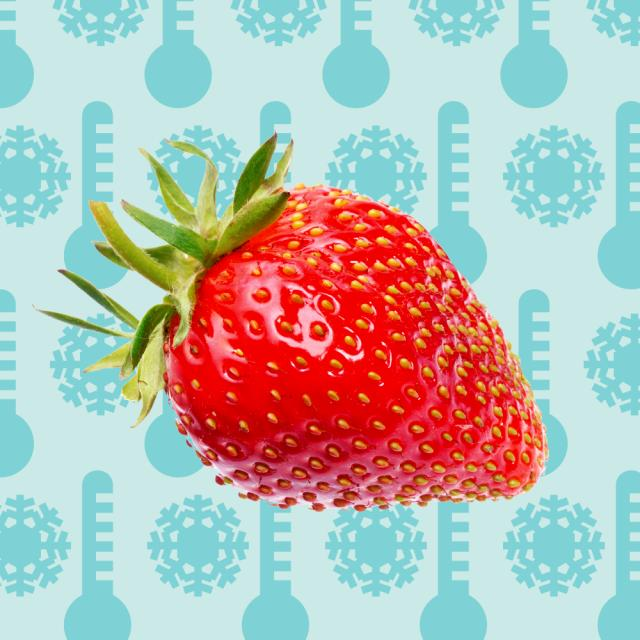strawberry: (66, 110, 570, 534)
